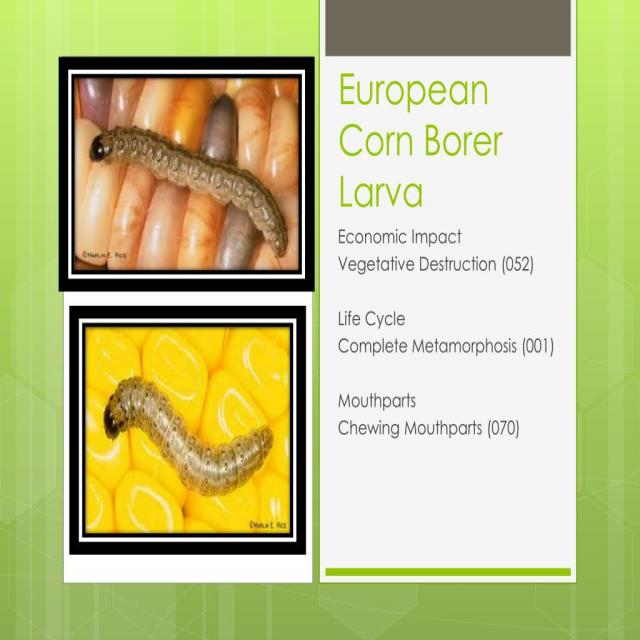cornborer-Larva-: (90, 116, 292, 262), (102, 368, 278, 500)
